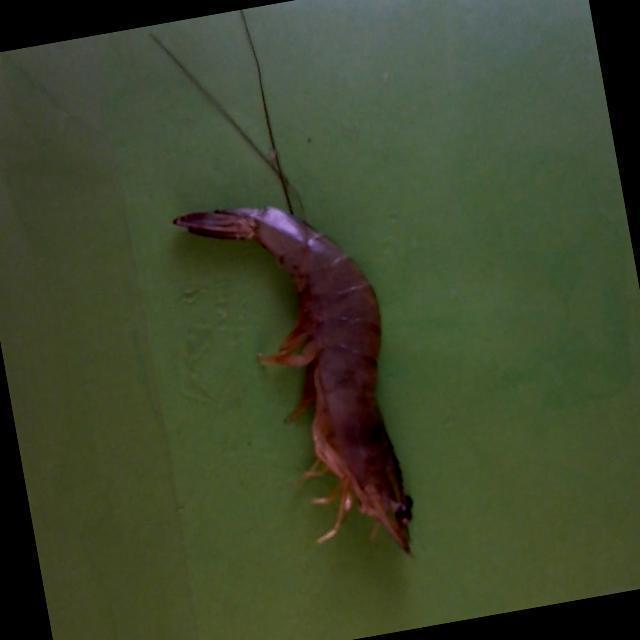shrimp: (172, 206, 411, 554)
